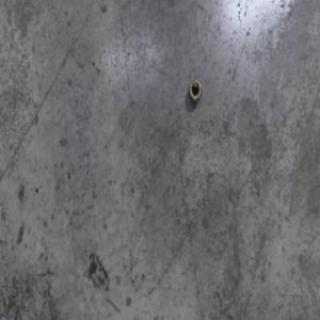Nuttrack_idkeyframe: (187, 77, 201, 102)
